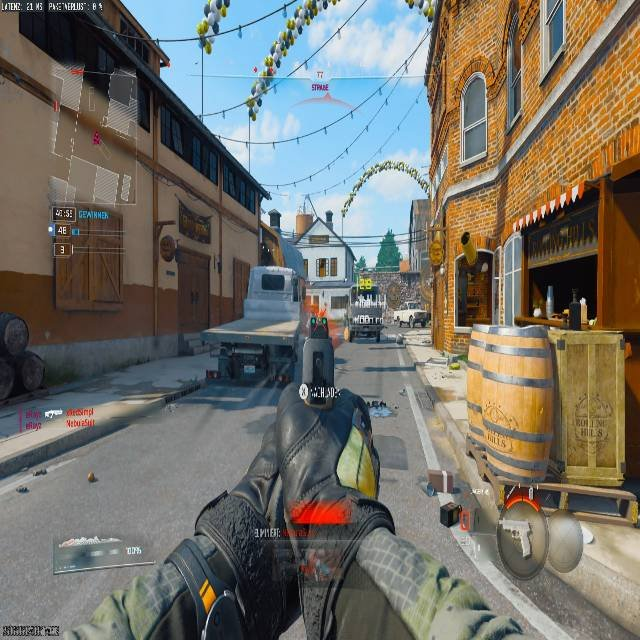player: (0, 306, 48, 409)
